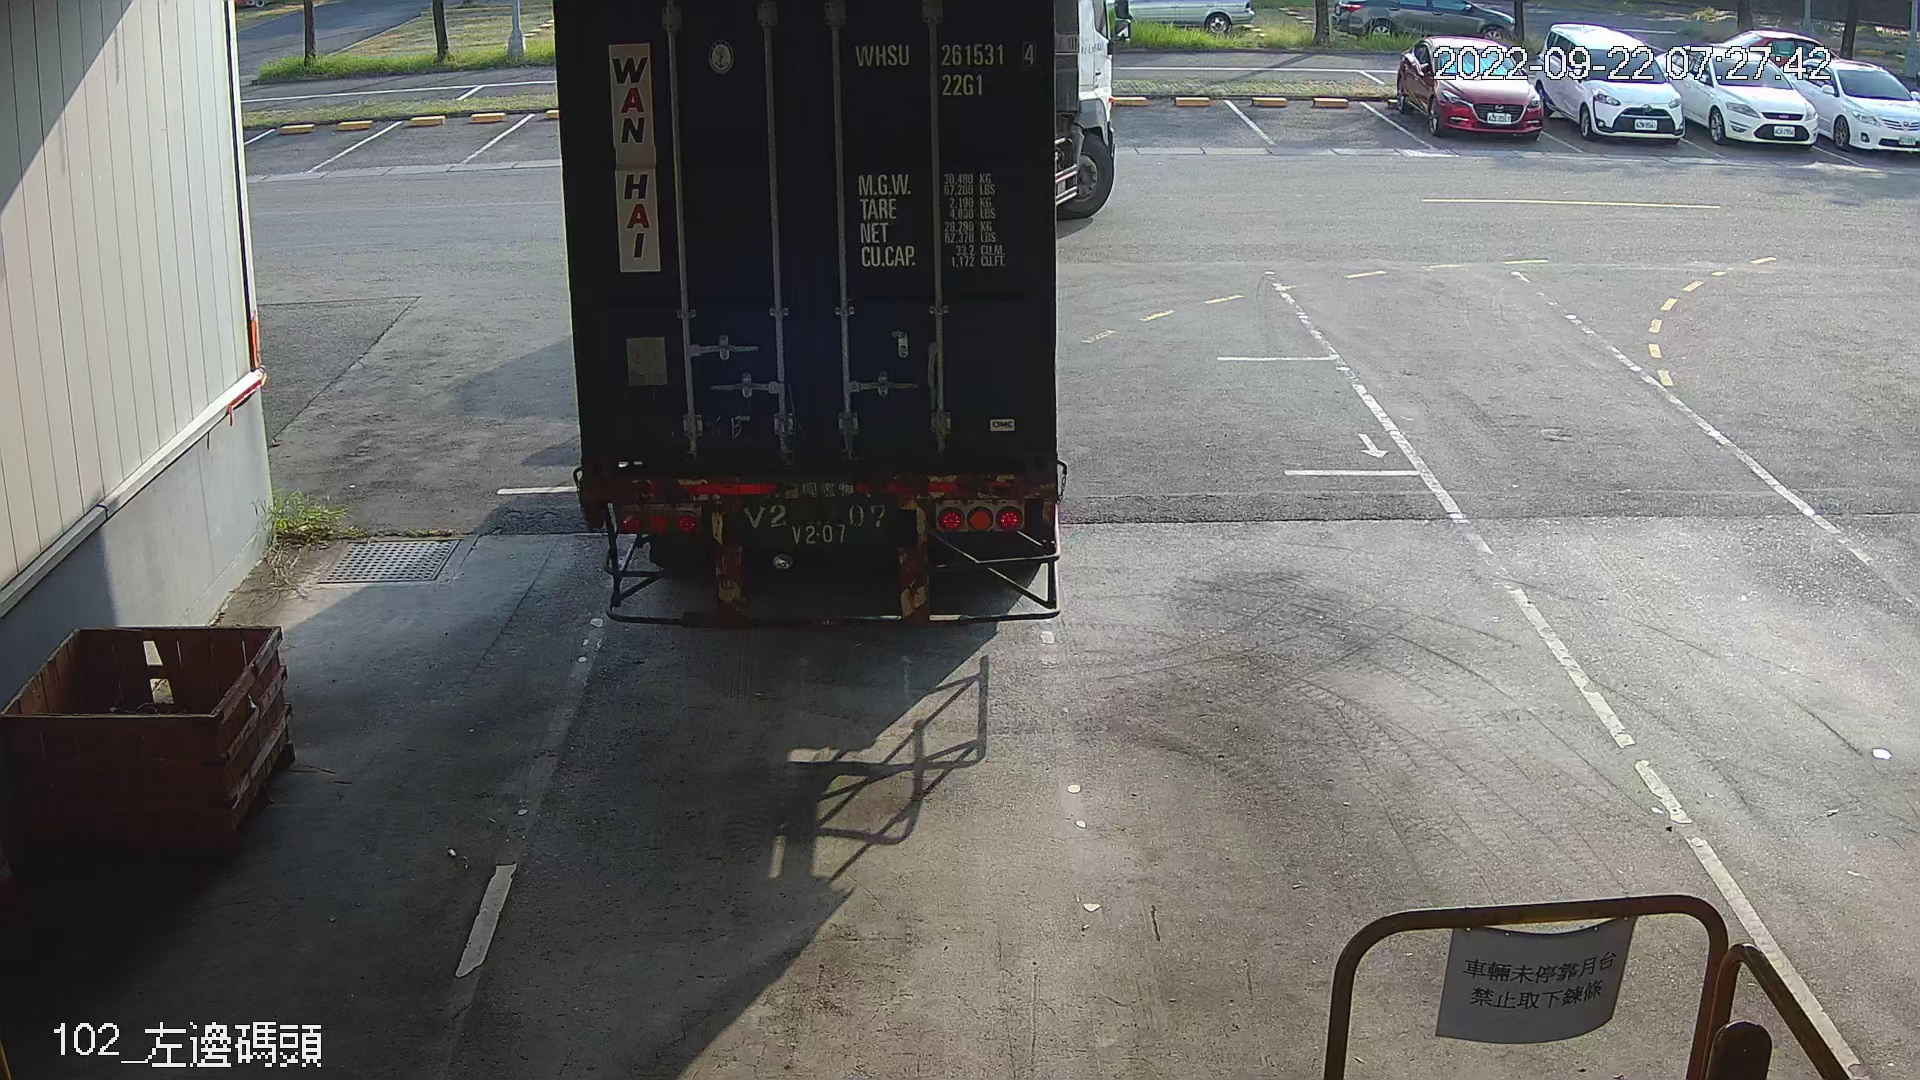container: (851, 36, 1044, 99)
